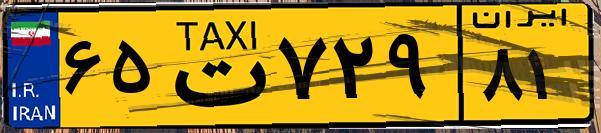1: (525, 38, 570, 115)
2: (330, 28, 385, 110)
5: (110, 28, 158, 98)
6: (57, 26, 110, 100)
7: (270, 28, 330, 110)
8: (475, 38, 525, 113)
9: (385, 28, 445, 110)
ت: (158, 12, 270, 120)
